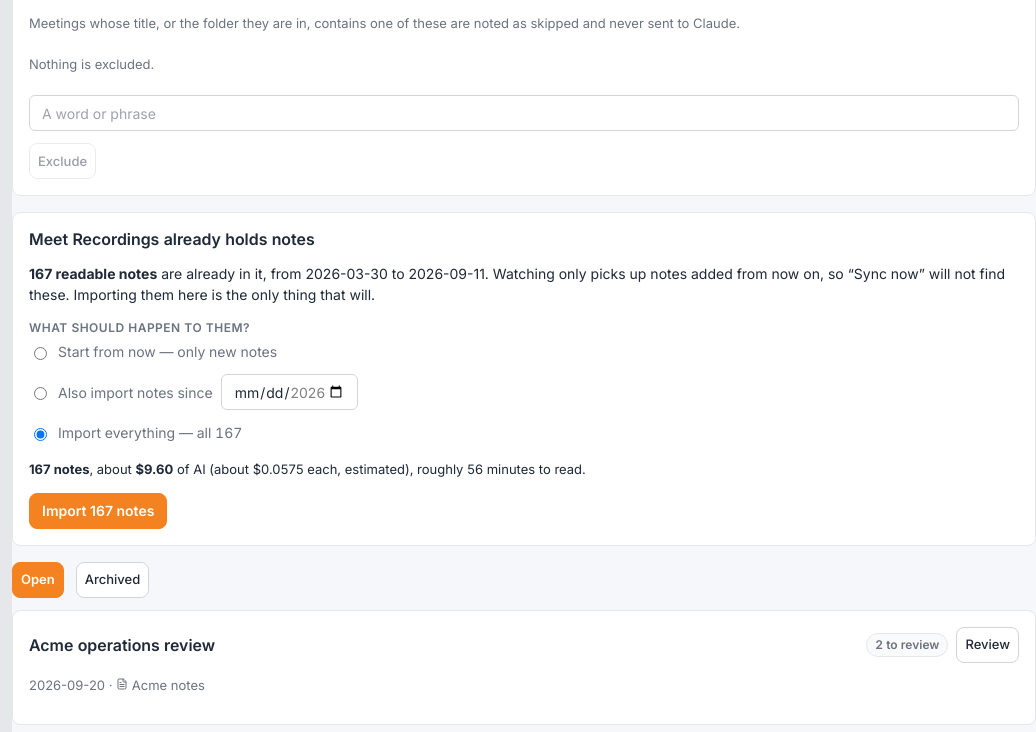
Test: the meeting queue › asks what a vendor does before it will approve them
This screenshot has width=1036, height=732.
(page scrolled)
Step 1. Click the button "Review" → x=988, y=644, box [956,626,1019,662]
(page scrolled)
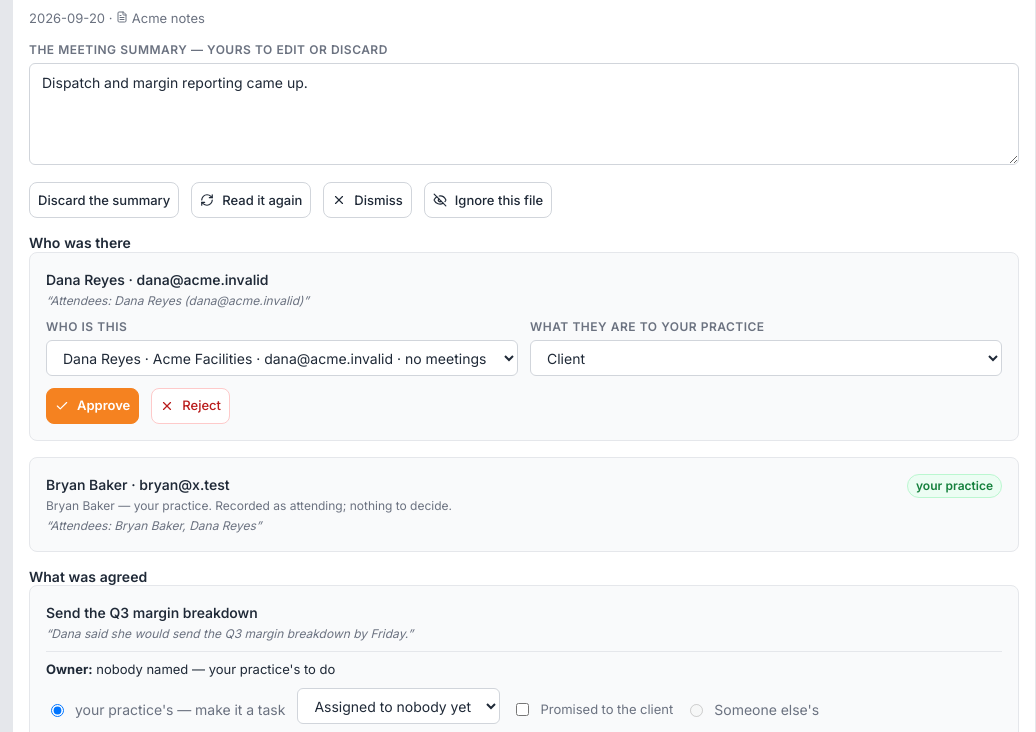
Step 2. Select "Vendor" in the dropdown named "Type for Dana Reyes" → x=766, y=358, box [530,340,1002,376]
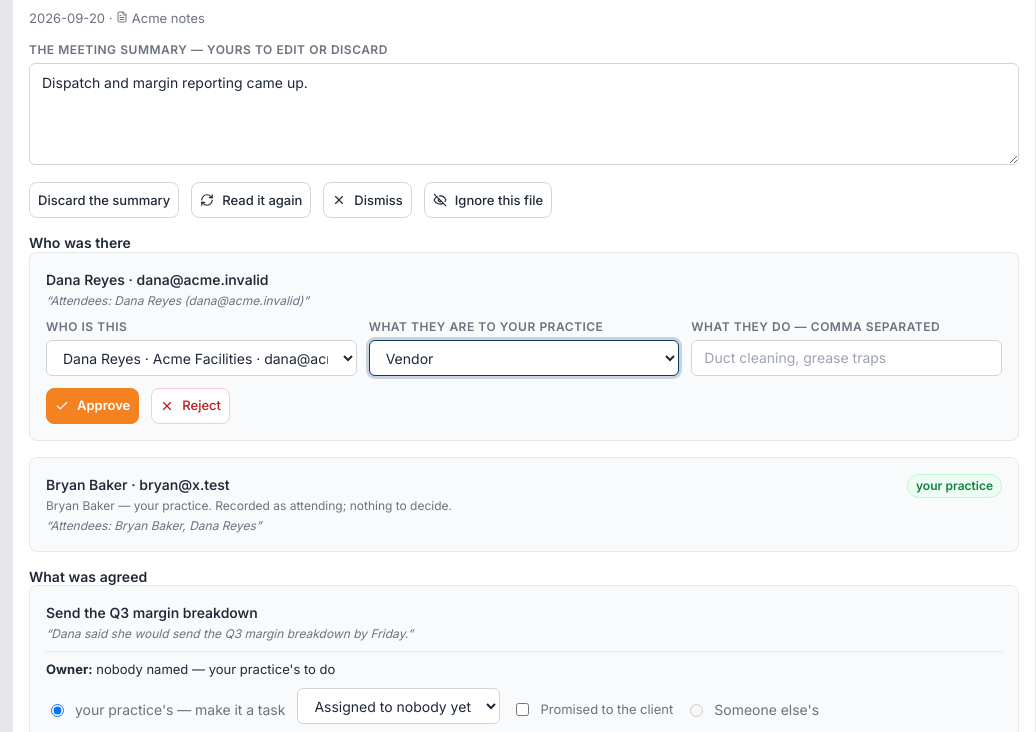
Expected: the field named "Service categories for Dana Reyes" is shown, [691,340,1002,376]
